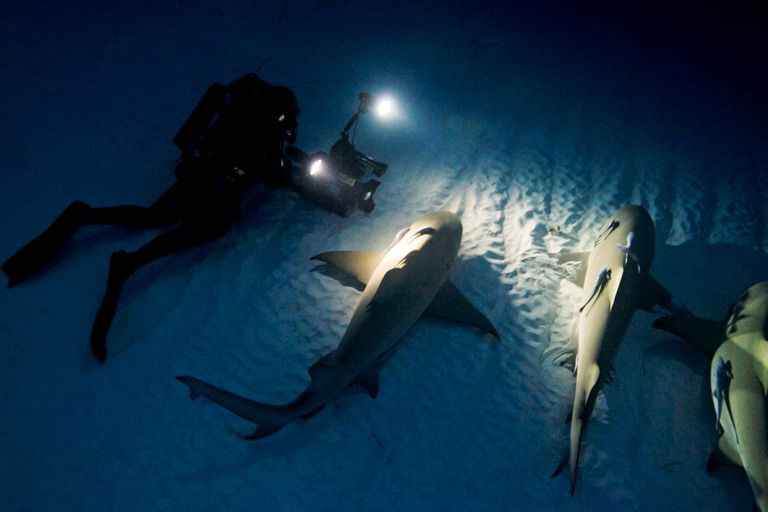shark: (169, 205, 514, 451), (633, 180, 768, 512), (534, 194, 667, 512)
